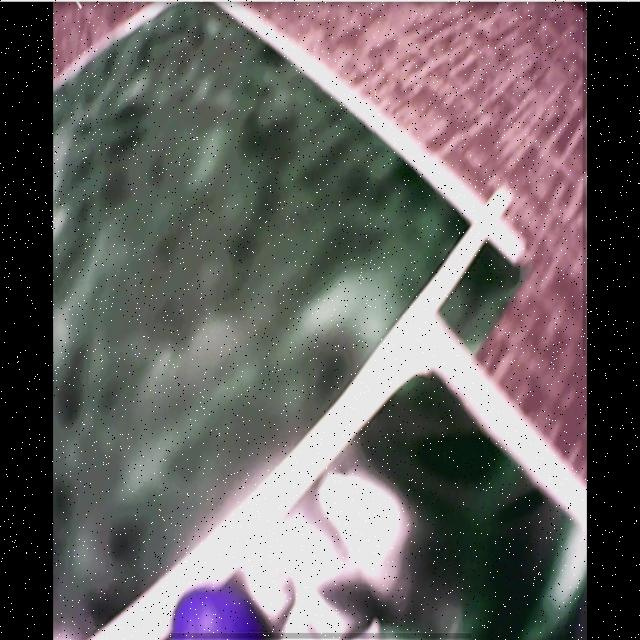ball: (173, 586, 259, 640)
